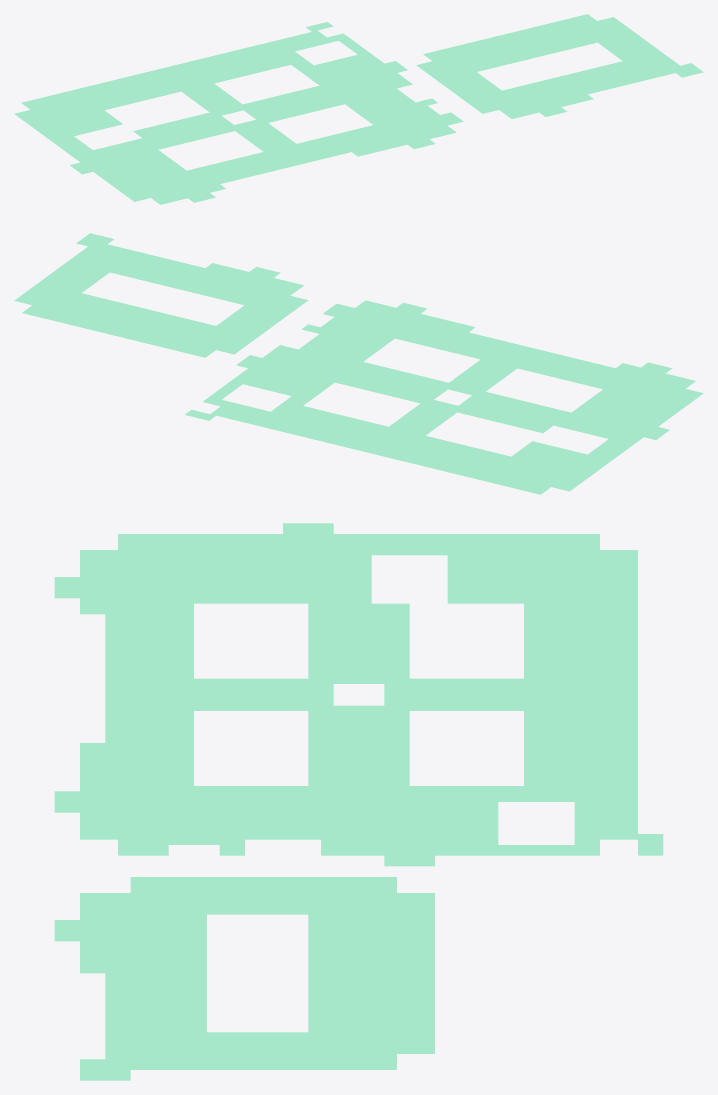
The model's file is demo_floor_navmesh.glb.
The picture shows the model from 3 angles, top to bottom: view 1: azimuth 30°, elevation 25°; view 2: azimuth 150°, elevation 25°; view 3: azimuth 270°, elevation 25°; orthographic projection. The views are drawn at different scales.
Parts seen in each view (by area): view 1: T00_NAVMESH, T01_NAVMESH; view 2: T00_NAVMESH, T01_NAVMESH; view 3: T00_NAVMESH, T01_NAVMESH.
Boxes of the visible parts, x1,y1,x2,y2 form: T00_NAVMESH: (14, 22, 463, 204); T01_NAVMESH: (416, 14, 703, 118); T00_NAVMESH: (185, 300, 703, 494); T01_NAVMESH: (14, 233, 307, 357); T00_NAVMESH: (54, 523, 663, 866); T01_NAVMESH: (54, 877, 434, 1080).
Bounding box in the file's own units: 26 × 0 × 12.
